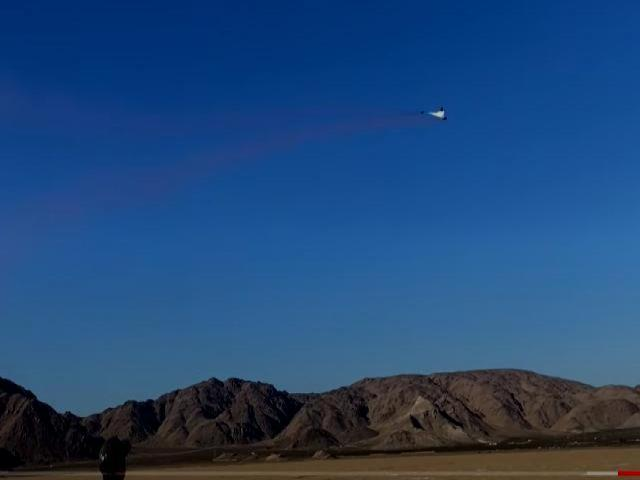iha: (422, 104, 447, 121)
